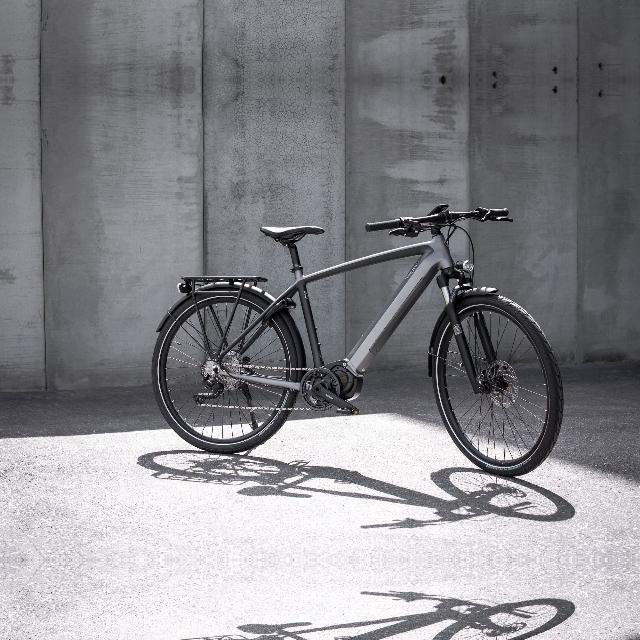obstacle: (147, 193, 576, 482), (146, 638, 575, 640)
